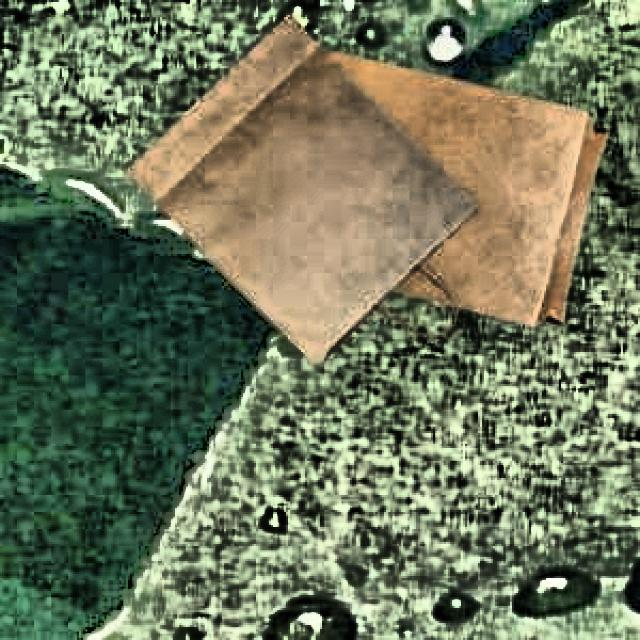Paper-bag: (125, 9, 486, 372), (268, 42, 619, 342)
